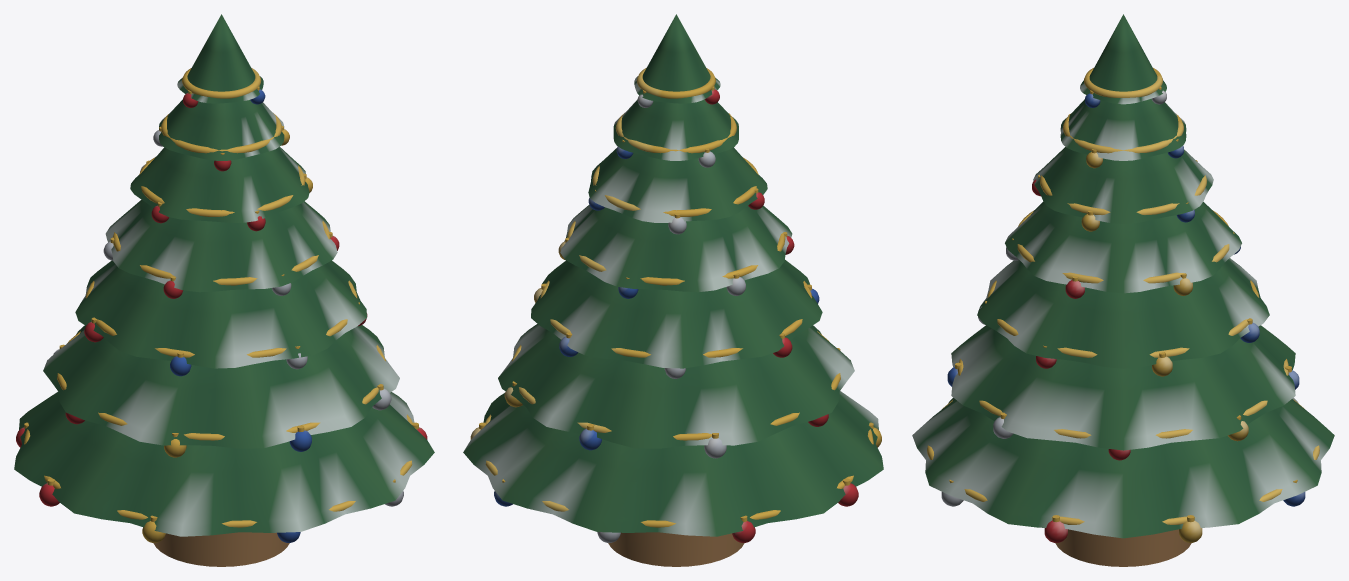
The model's file is Xmas_Tree_Col.fbx.
The picture shows the model from 3 angles, left to right: view 1: azimuth 30°, elevation 25°; view 2: azimuth 150°, elevation 25°; view 3: azimuth 270°, elevation 25°; orthographic projection.
Visible parts, largest first — view 1: Xmas_Tree_Col; view 2: Xmas_Tree_Col; view 3: Xmas_Tree_Col.
Boxes of the visible parts, x1,y1,x2,y2 form: Xmas_Tree_Col: (14, 14, 434, 566); Xmas_Tree_Col: (463, 14, 883, 566); Xmas_Tree_Col: (912, 14, 1334, 566).
Bounding box in the file's own units: 36.39 × 49.8 × 36.43.
